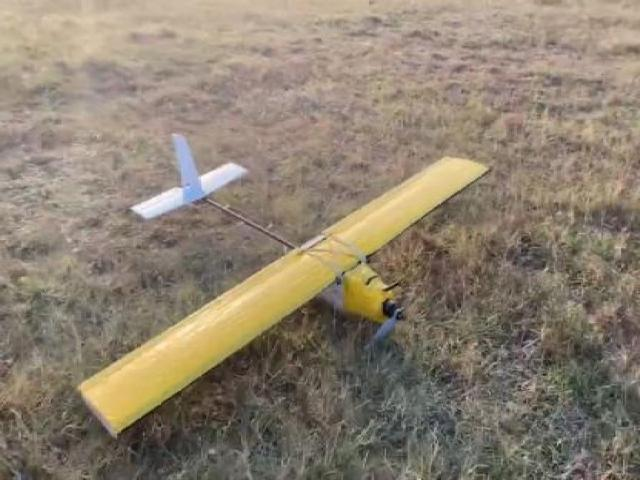uav: (72, 130, 494, 440)
